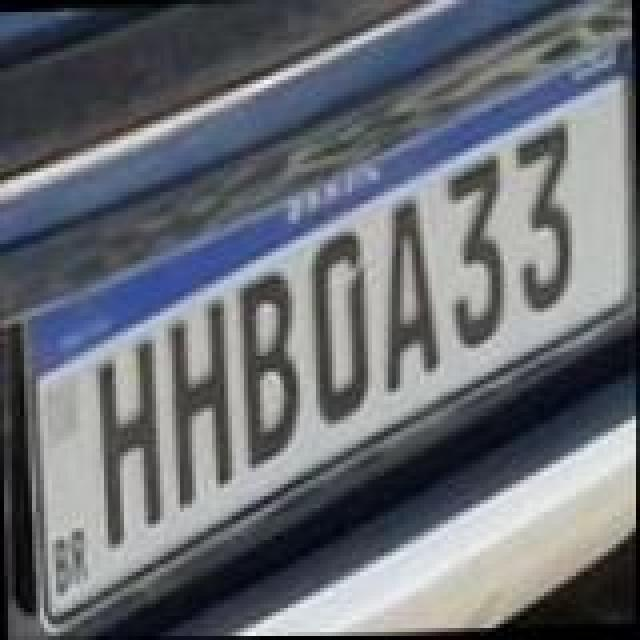3: (444, 156, 508, 348), (510, 124, 574, 312)
A: (378, 200, 442, 392)
B: (238, 268, 306, 464)
D: (306, 236, 370, 428)
H: (164, 294, 236, 510), (96, 340, 164, 548)
